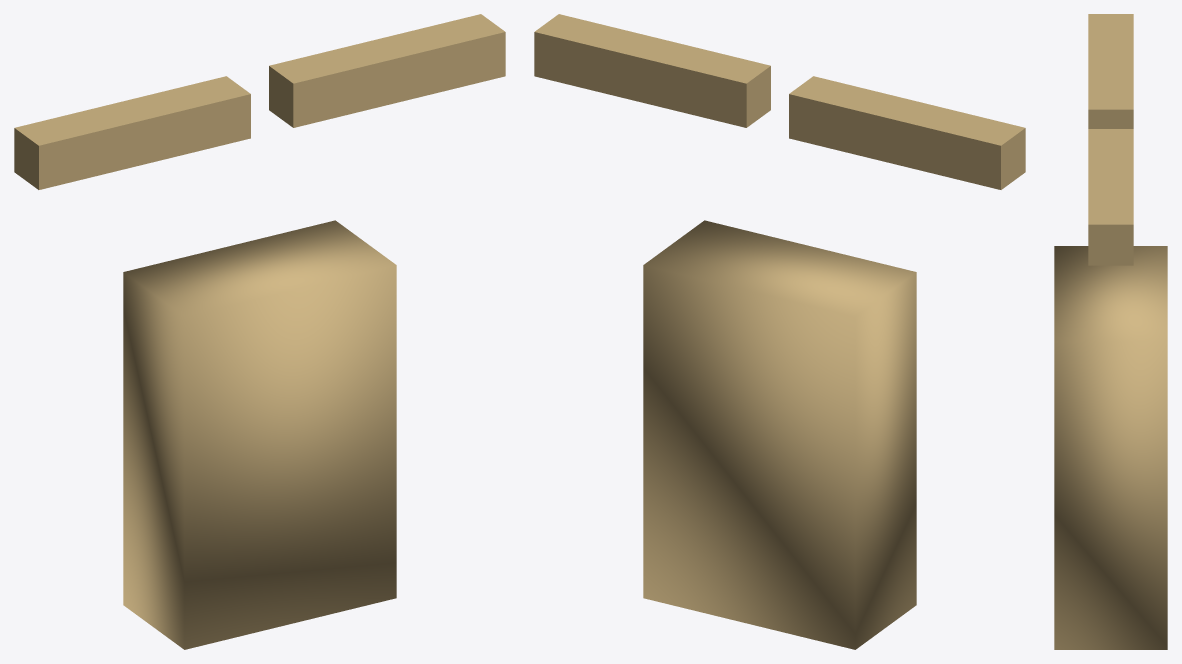
3 views of the same model, side by side, from view 1: azimuth 30°, elevation 25°; view 2: azimuth 150°, elevation 25°; view 3: azimuth 270°, elevation 25° (orthographic). The views are drawn at different scales.
Visible parts, largest first — view 1: Shopping_Bag; view 2: Shopping_Bag; view 3: Shopping_Bag.
Part boxes in pixels (left/top/right/bottom): Shopping_Bag: left=14, top=14, right=505, bottom=649; Shopping_Bag: left=534, top=14, right=1025, bottom=649; Shopping_Bag: left=1054, top=14, right=1167, bottom=649.
Bounding box in the file's own units: 1.87 × 2 × 0.4255.
